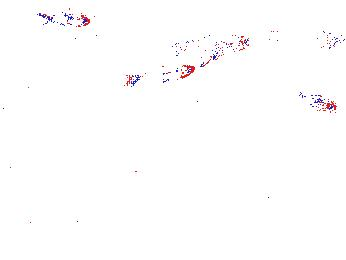red belly glassfish: (39, 9, 91, 29), (297, 89, 338, 114)
redtail glassfish: (164, 29, 253, 62), (125, 62, 195, 94), (264, 20, 338, 50), (324, 30, 346, 53)
